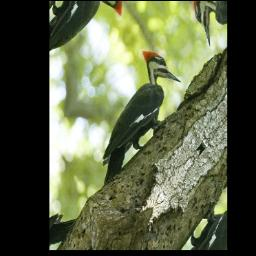Woodpecker: (74, 36, 189, 193)
